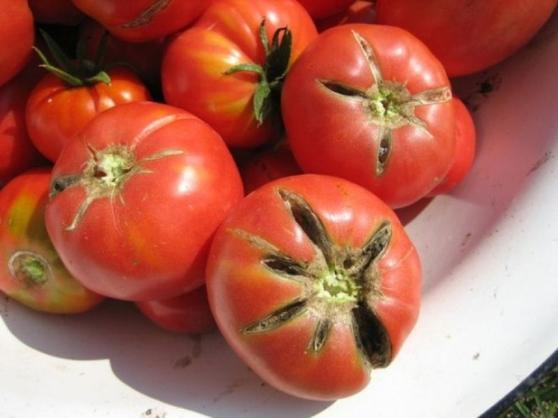tomato: (206, 179, 429, 405), (53, 97, 244, 303), (278, 24, 468, 208)
